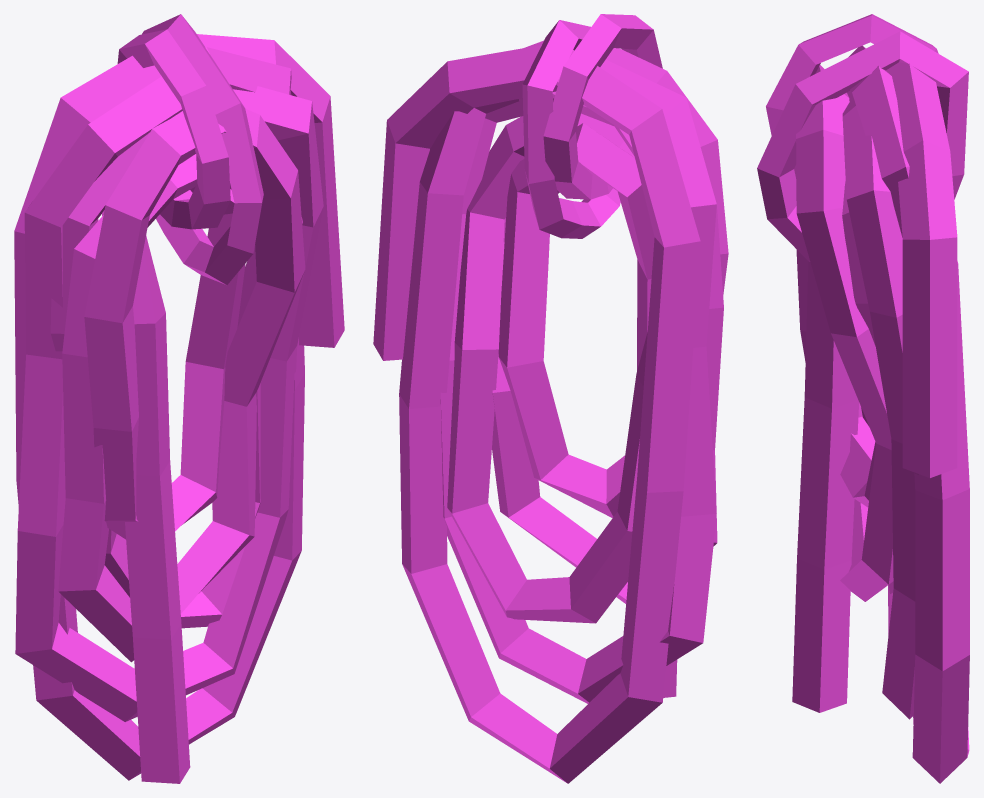
File: SM_Rope_Hang_Fantasy.fbx
3 renders of one model, left to right at view 1: azimuth 30°, elevation 25°; view 2: azimuth 150°, elevation 25°; view 3: azimuth 270°, elevation 25°, orthographic. The views are drawn at different scales.
Visible parts, largest first — view 1: SM_Rope_Hang_Fantasy; view 2: SM_Rope_Hang_Fantasy; view 3: SM_Rope_Hang_Fantasy.
Boxes of the visible parts, bbox=[...] form: SM_Rope_Hang_Fantasy: bbox=[14, 14, 344, 783]; SM_Rope_Hang_Fantasy: bbox=[373, 14, 728, 783]; SM_Rope_Hang_Fantasy: bbox=[757, 14, 969, 783].
Size of the model in its own units: 0.7056 by 1.53 by 0.3894.
